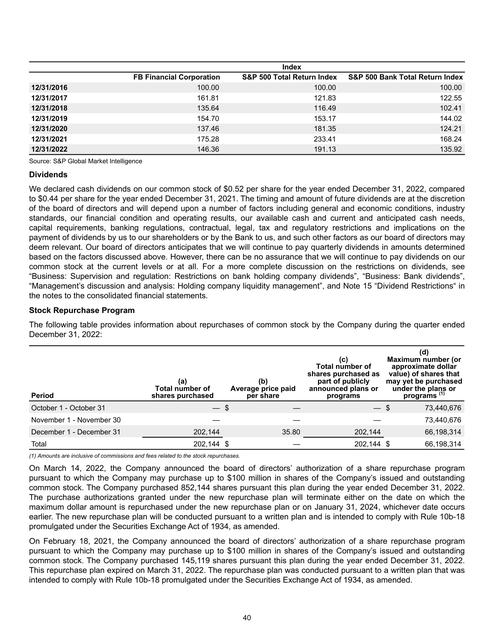box: (29, 344, 465, 451), (27, 59, 465, 157)
